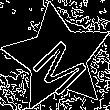M_NE: (23, 24, 92, 92)
